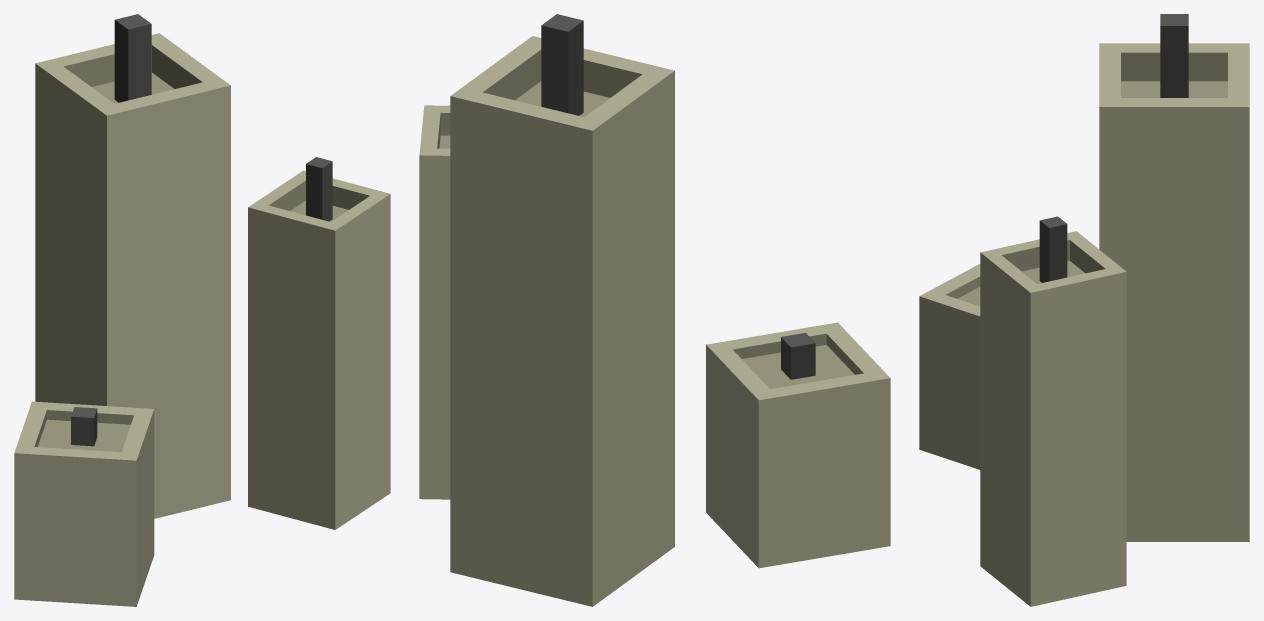
File: SD_Prop_Candle_03.fbx
The picture shows the model from 3 angles, left to right: view 1: azimuth 30°, elevation 25°; view 2: azimuth 150°, elevation 25°; view 3: azimuth 270°, elevation 25°; orthographic projection. The views are drawn at different scales.
Parts seen in each view (by area): view 1: SD_Prop_Candle_03; view 2: SD_Prop_Candle_03; view 3: SD_Prop_Candle_03.
Part boxes in pixels (x1,y1,x2,y2): SD_Prop_Candle_03: (14,14,390,606); SD_Prop_Candle_03: (419,14,890,606); SD_Prop_Candle_03: (919,14,1249,606).
Bounding box in the file's own units: 0.6557 × 0.7484 × 0.4569.
